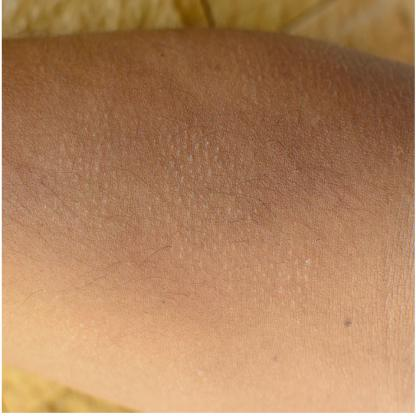Chicken Skin: (12, 53, 318, 315)
Healthy skin: (190, 115, 411, 403)
